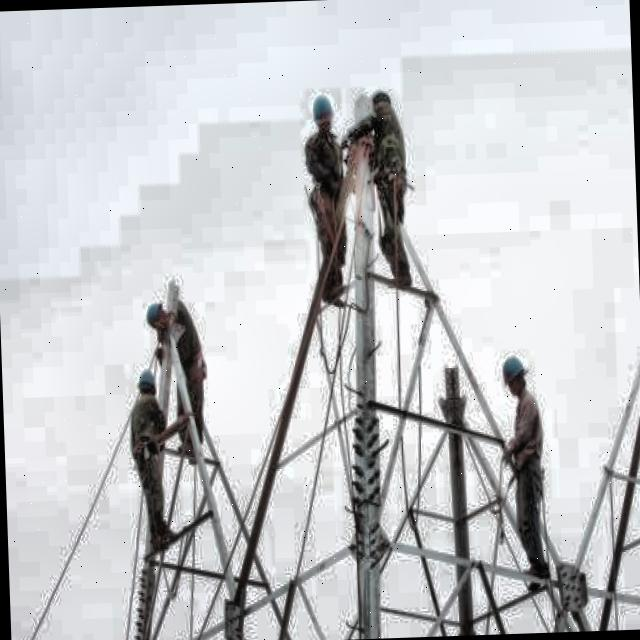helmet: (498, 352, 530, 400), (310, 88, 332, 132), (144, 298, 172, 332), (136, 366, 159, 404)
